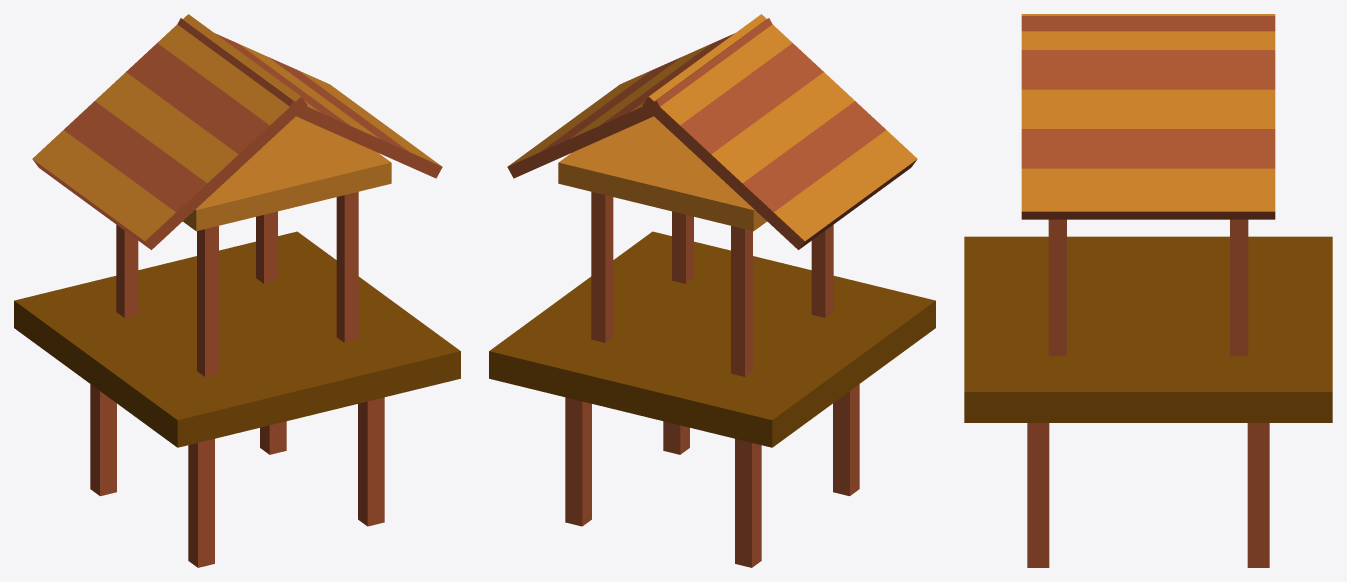
The model's file is 弓箭塔.fbx.
3 views of the same model, side by side, from view 1: azimuth 30°, elevation 25°; view 2: azimuth 150°, elevation 25°; view 3: azimuth 270°, elevation 25° (orthographic). The views are drawn at different scales.
Visible parts, largest first — view 1: 立方体.004, 立方体.006, 立方体.005, 立方体.007, 立方体.010, 立方体.001, 立方体.003, 立方体.008, 立方体, 立方体.011, 立方体.009, 立方体.002; view 2: 立方体.004, 立方体.006, 立方体.005, 立方体.007, 立方体.009, 立方体.002, 立方体, 立方体.011, 立方体.003, 立方体.008, 立方体.010, 立方体.001; view 3: 立方体.004, 立方体.007, 立方体.006, 立方体.001, 立方体.002, 立方体.009, 立方体.010.
Boxes of the visible parts, bbox=[...] form: 立方体.004: bbox=[14, 231, 460, 447]; 立方体.006: bbox=[32, 14, 307, 249]; 立方体.005: bbox=[183, 116, 391, 231]; 立方体.007: bbox=[177, 18, 442, 178]; 立方体.010: bbox=[336, 192, 358, 342]; 立方体.001: bbox=[358, 397, 384, 526]; 立方体.003: bbox=[188, 439, 214, 567]; 立方体.008: bbox=[197, 226, 218, 376]; 立方体: bbox=[90, 384, 116, 496]; 立方体.011: bbox=[116, 225, 138, 317]; 立方体.009: bbox=[256, 211, 277, 283]; 立方体.002: bbox=[260, 421, 286, 454]; 立方体.004: bbox=[489, 231, 935, 447]; 立方体.006: bbox=[642, 14, 917, 249]; 立方体.005: bbox=[558, 116, 766, 231]; 立方体.007: bbox=[507, 18, 772, 178]; 立方体.009: bbox=[591, 192, 613, 342]; 立方体.002: bbox=[565, 397, 591, 526]; 立方体: bbox=[735, 439, 761, 567]; 立方体.011: bbox=[731, 226, 752, 376]; 立方体.003: bbox=[833, 384, 859, 496]; 立方体.008: bbox=[811, 225, 833, 317]; 立方体.010: bbox=[672, 211, 693, 283]; 立方体.001: bbox=[663, 421, 689, 454]; 立方体.004: bbox=[964, 236, 1332, 422]; 立方体.007: bbox=[1021, 14, 1275, 219]; 立方体.006: bbox=[1021, 16, 1275, 31]; 立方体.001: bbox=[1027, 423, 1049, 567]; 立方体.002: bbox=[1247, 423, 1269, 567]; 立方体.009: bbox=[1230, 219, 1248, 356]; 立方体.010: bbox=[1048, 219, 1066, 356].
Bounding box in the file's own units: 213 × 203 × 307.
